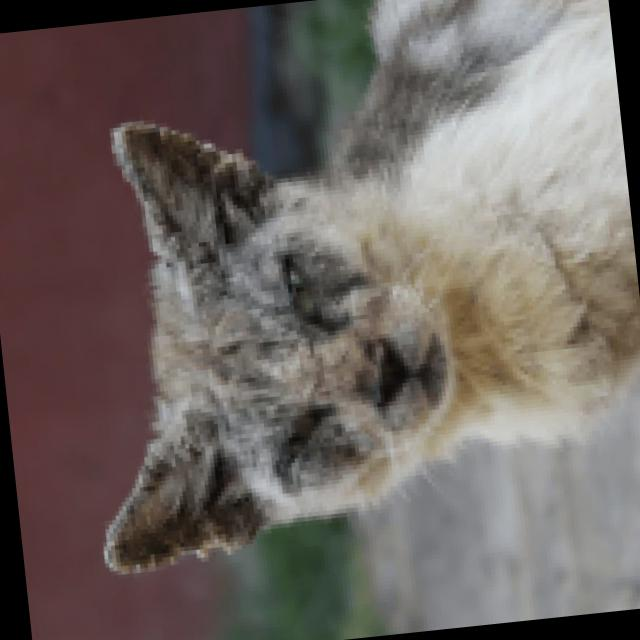Mange: (98, 114, 255, 176), (125, 526, 248, 569)
